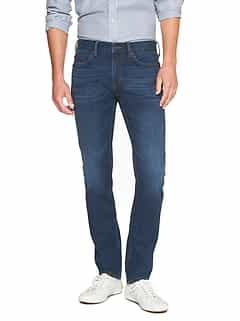jeans: (62, 36, 168, 284)
